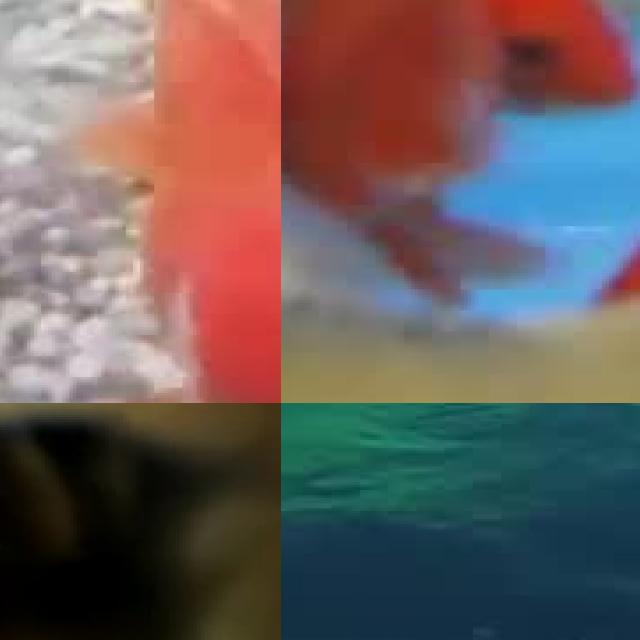fish: (0, 0, 281, 403), (0, 403, 281, 640)
